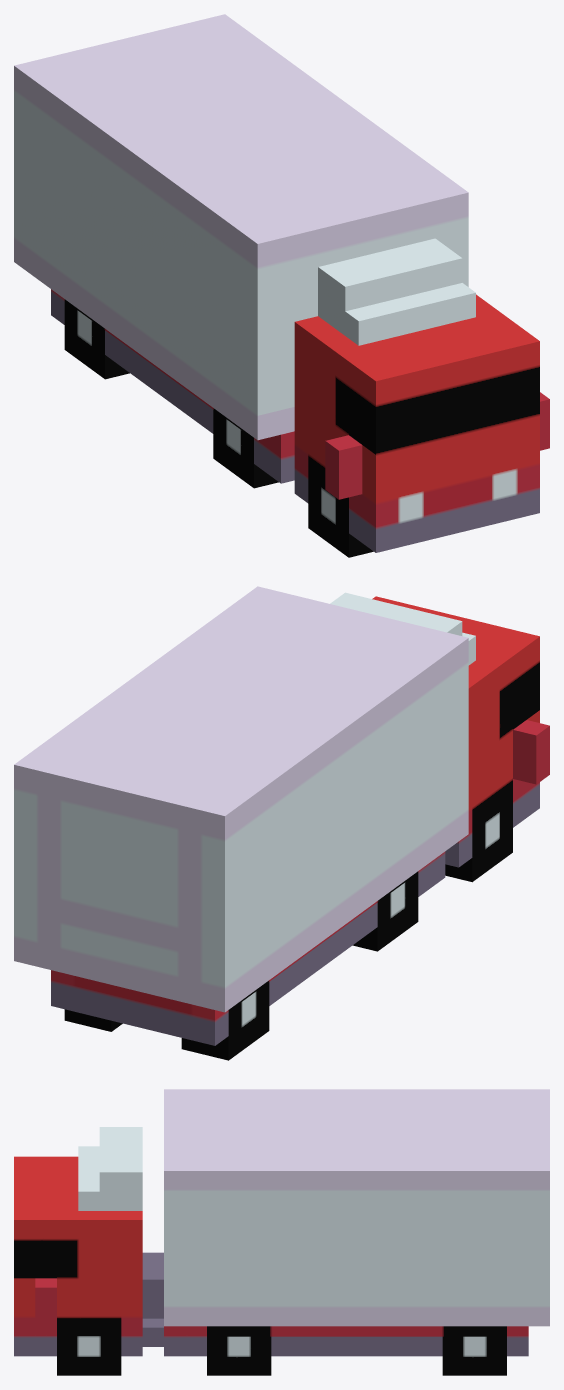
The model's file is Truck.fbx.
3 renders of one model, top to bottom at view 1: azimuth 30°, elevation 25°; view 2: azimuth 150°, elevation 25°; view 3: azimuth 270°, elevation 25°, orthographic. The views are drawn at different scales.
Visible parts, largest first — view 1: Truck; view 2: Truck; view 3: Truck.
Boxes of the visible parts, left/top/right/bottom form: Truck: left=14, top=14, right=549, bottom=557; Truck: left=14, top=586, right=549, bottom=1060; Truck: left=14, top=1089, right=549, bottom=1375.
Bounding box in the file's own units: 108 × 132 × 300.
